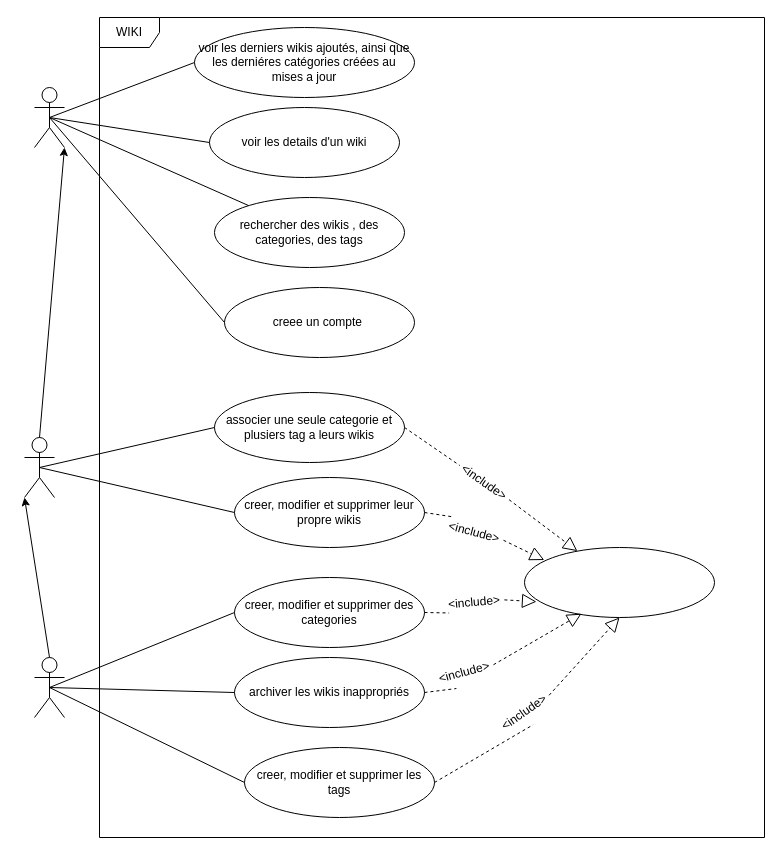
This 782x855 diagram has some shape labels left out. Here are the shapes that lost their labels. From the top down, the centre of each, then its label:
point 49,117: visiteur
point 39,467: auteur
point 619,582: authentification
point 49,687: admin
